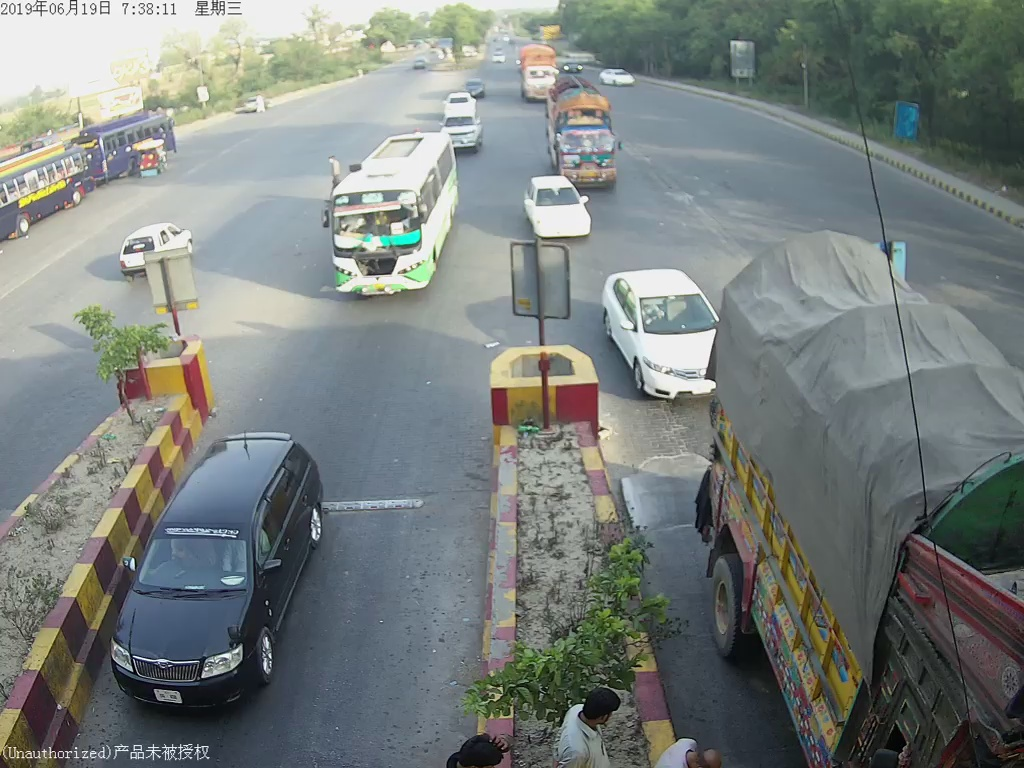Cat-1: (103, 424, 330, 709), (603, 265, 729, 402), (523, 174, 594, 244)
Cat-3: (324, 125, 457, 302)
Cat-4: (540, 79, 628, 189)
